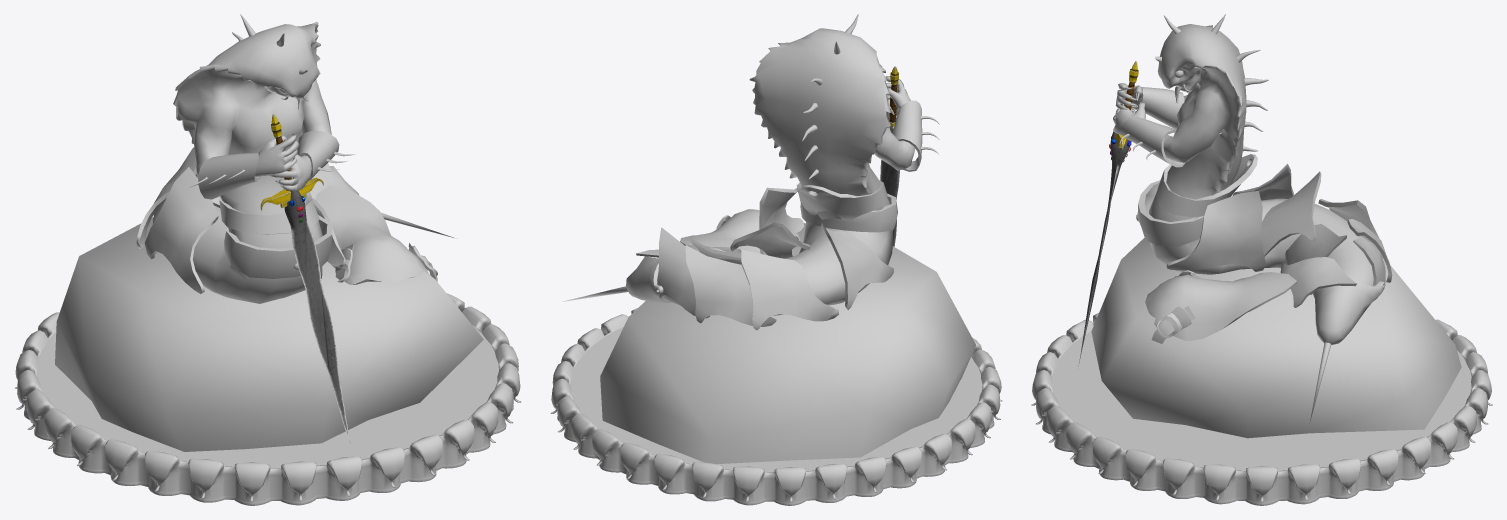
File: Ahivadh.gltf
3 renders of one model, left to right at view 1: azimuth 30°, elevation 25°; view 2: azimuth 150°, elevation 25°; view 3: azimuth 270°, elevation 25°, orthographic. The views are drawn at different scales.
Parts seen in each view (by area): view 1: Stone, polySurface149, Body, pCylinder1, ChestArmor, polySurface33, polySurface69, Group61340, polySurface49, Group43809, polySurface50, polySurface35; view 2: Stone, Body, polySurface149, pCylinder1, polySurface35, polySurface37, polySurface33, polySurface39, Group43809, ChestArmor, Group61340, polySurface36 (+4 smaller); view 3: Stone, polySurface149, Body, pCylinder1, ChestArmor, polySurface34, Group34046, polySurface36, Group61340, polySurface40, Group43809, polySurface50 (+8 smaller).
Part boxes in pixels (x1,y1,x2,y2): Stone: (55,217,483,451); polySurface149: (14,293,521,505); Body: (153,21,331,303); pCylinder1: (37,325,498,467); ChestArmor: (315,185,428,284); polySurface33: (144,167,218,293); polySurface69: (284,190,350,442); Group61340: (224,215,332,278); polySurface49: (198,153,260,199); Group43809: (219,192,319,234); polySurface50: (297,130,339,180); polySurface35: (136,147,196,248); Stone: (600,223,975,464); Body: (657,28,915,316); polySurface149: (550,308,1002,505); pCylinder1: (570,327,982,471); polySurface35: (741,249,838,330); polySurface37: (685,245,776,326); polySurface33: (821,222,893,309); polySurface39: (657,227,709,318); Group43809: (796,180,887,220); ChestArmor: (680,209,799,253); Group61340: (800,193,897,232); polySurface36: (730,222,810,258); Stone: (1091,238,1461,438); polySurface149: (1031,313,1492,505); Body: (1113,24,1373,285); pCylinder1: (1052,331,1471,470); ChestArmor: (1145,272,1297,340); polySurface34: (1166,191,1266,271); Group34046: (1312,280,1385,344); polySurface36: (1261,171,1321,256); Group61340: (1137,180,1203,246); polySurface40: (1280,257,1356,307); Group43809: (1156,154,1257,217); polySurface50: (1120,116,1185,167).
Bounding box in the file's own units: 0.098 × 0.089 × 0.098.
